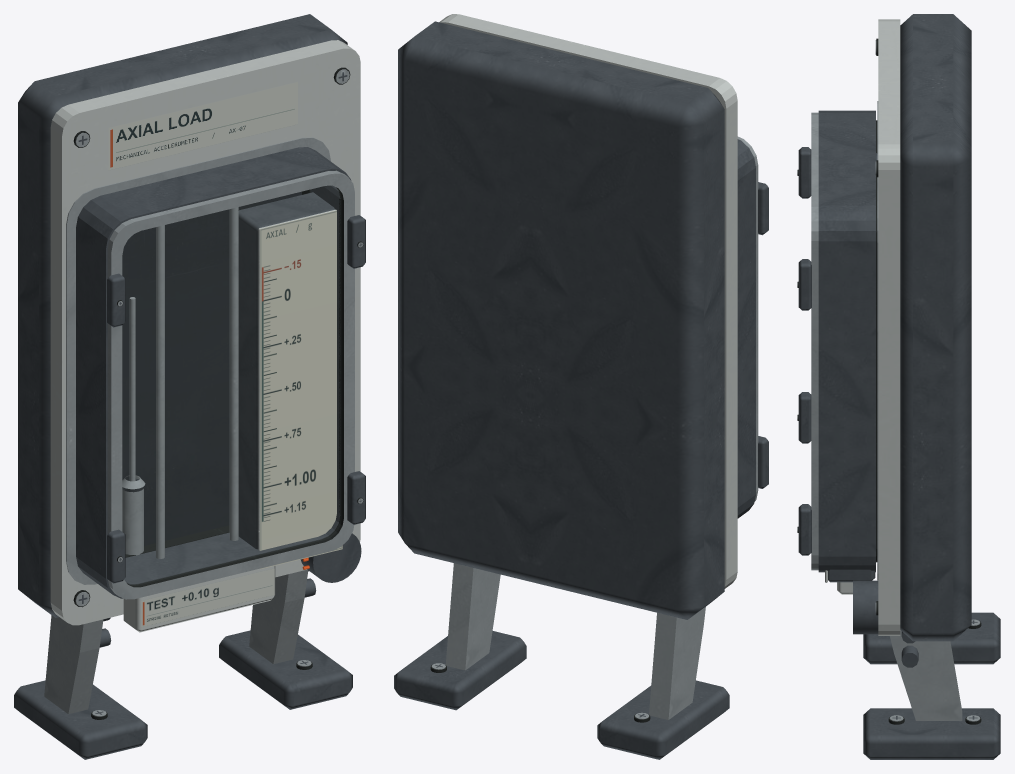
File: prop_accelerometer.fbx
3 renders of one model, left to right at view 1: azimuth 30°, elevation 25°; view 2: azimuth 150°, elevation 25°; view 3: azimuth 270°, elevation 25°, orthographic. The views are drawn at different scales.
Visible parts, largest first — view 1: SM_prop_accelerometer; view 2: SM_prop_accelerometer; view 3: SM_prop_accelerometer.
Boxes of the visible parts, x1,y1,x2,y2 form: SM_prop_accelerometer: [14, 14, 365, 759]; SM_prop_accelerometer: [394, 14, 768, 759]; SM_prop_accelerometer: [797, 14, 1000, 759].
Size of the model in its own units: 0.28 by 0.5625 by 0.1672.
Materials: 11 (9 with a texture image).
